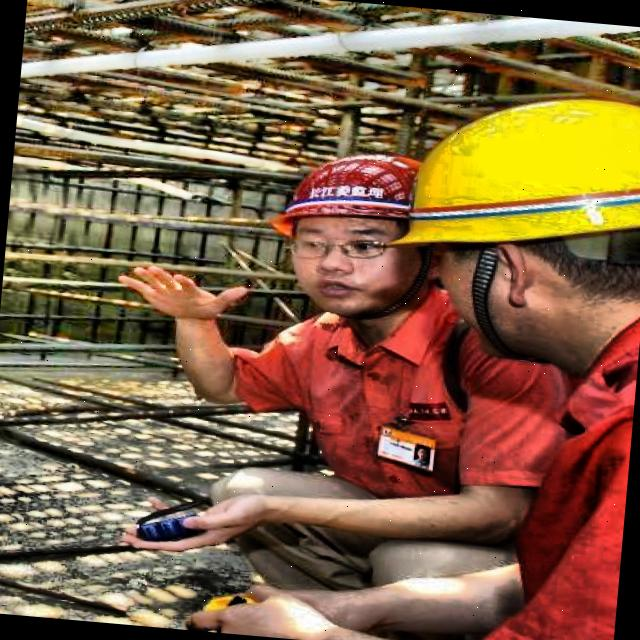helmet: (373, 70, 640, 373), (255, 130, 435, 326)
